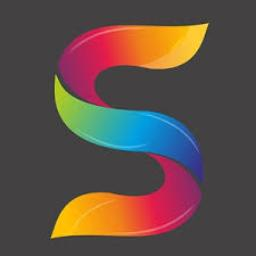s: (40, 12, 228, 256)
